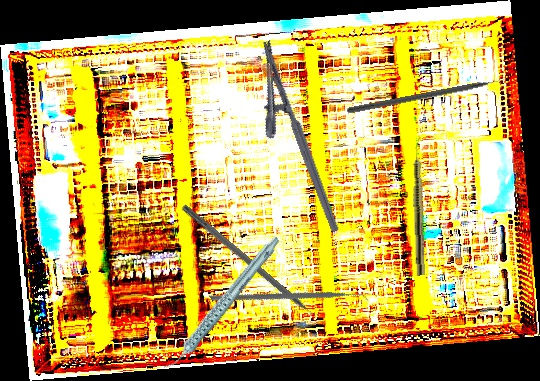Chopper: (208, 224, 373, 378)
Handpiece: (140, 234, 302, 372), (411, 137, 427, 276)
Hook Surgical: (179, 203, 327, 330), (346, 76, 512, 116)
Needle Holder: (235, 39, 341, 243)
